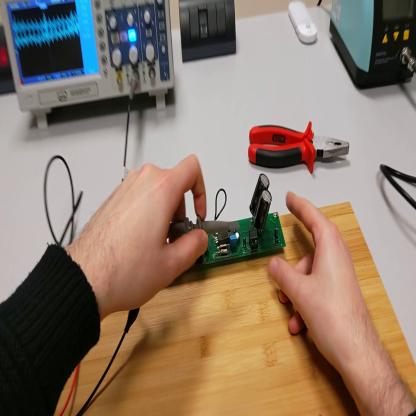hand: (88, 157, 210, 309), (270, 191, 368, 371)
high voltage board: (198, 172, 288, 267)
oscilloscope: (3, 1, 175, 131)
oscilloscope probe tip: (169, 222, 242, 240)
pliers: (246, 122, 351, 170)
socket: (2, 25, 16, 97)
welder station: (329, 1, 416, 90)
working area: (56, 203, 416, 413)
